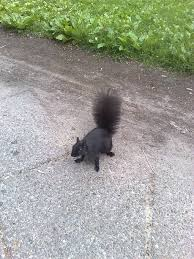squirrel: (69, 87, 129, 174)
